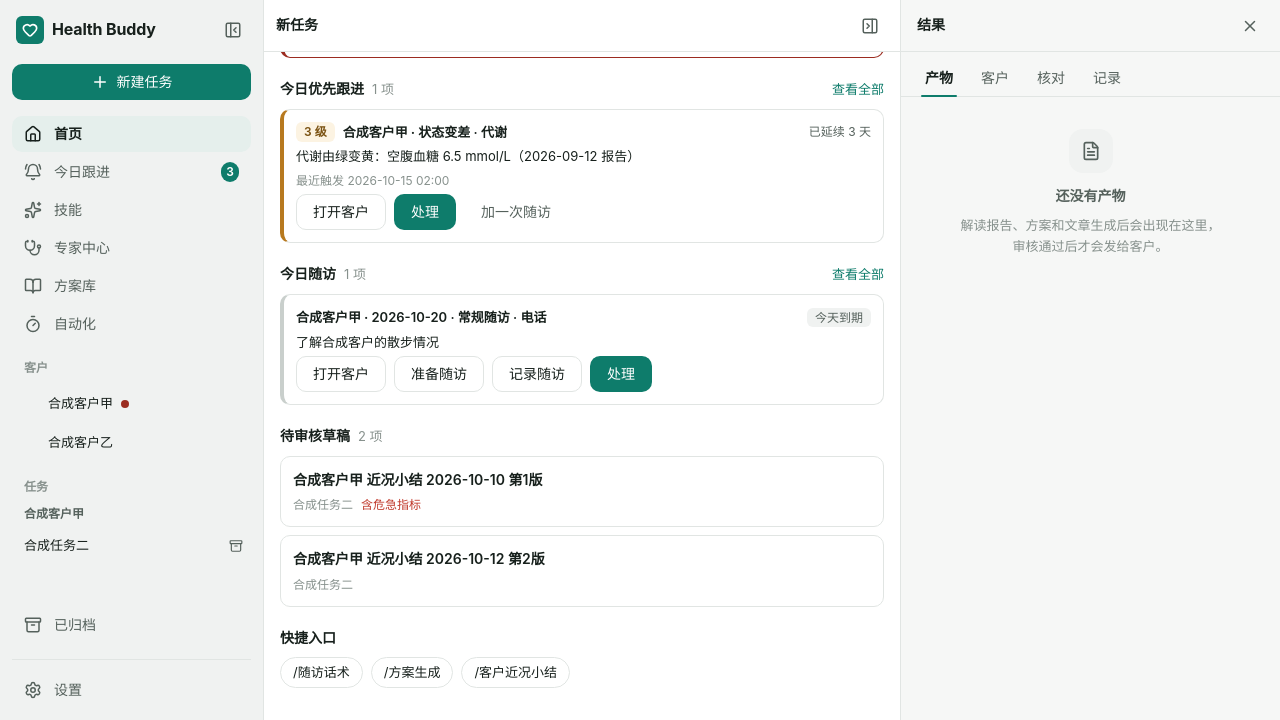
Test: 工作台首页 › 点待审核草稿：打开任务，结果区打开这份产物
(page scrolled)
Click the button "合成客户甲 近况小结 2026-10-12 第2版 合成任务二" at (419, 559), box [280,535,884,607]
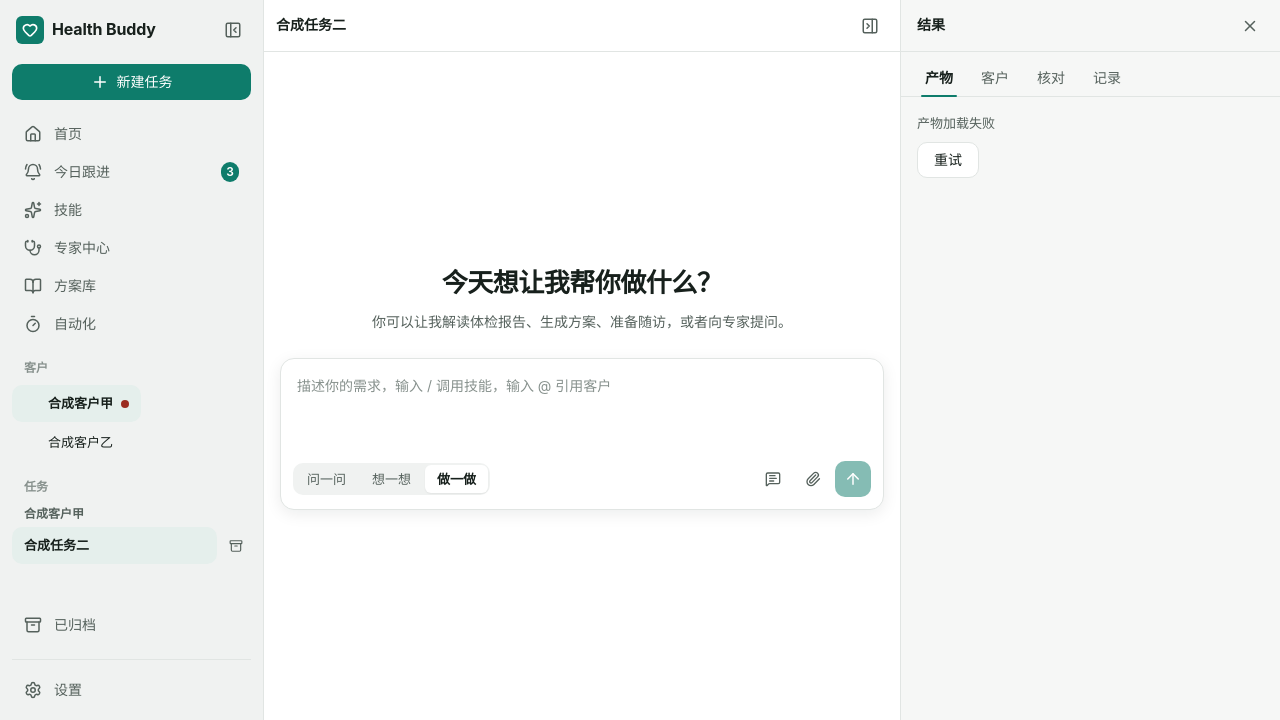
Now the heading "待审核草稿" is gone
